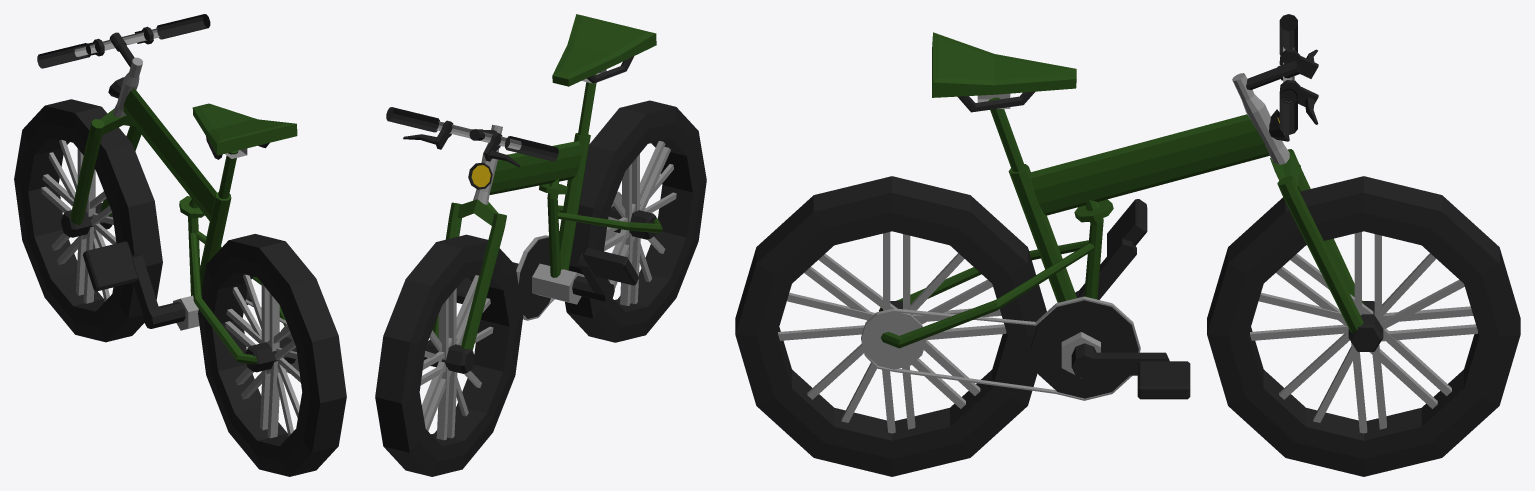
The model's file is scene_IckZjg3kpz.glb.
3 renders of one model, left to right at view 1: azimuth 30°, elevation 25°; view 2: azimuth 150°, elevation 25°; view 3: azimuth 270°, elevation 25°, orthographic. The views are drawn at different scales.
Parts seen in each view (by area): view 1: Bike; view 2: Bike; view 3: Bike.
Boxes of the visible parts, x1=… form: Bike: x1=14, y1=14, x2=346, y2=476; Bike: x1=375, y1=14, x2=706, y2=476; Bike: x1=735, y1=14, x2=1520, y2=476.
Bounding box in the file's own units: 1.68 × 2.79 × 4.83.
